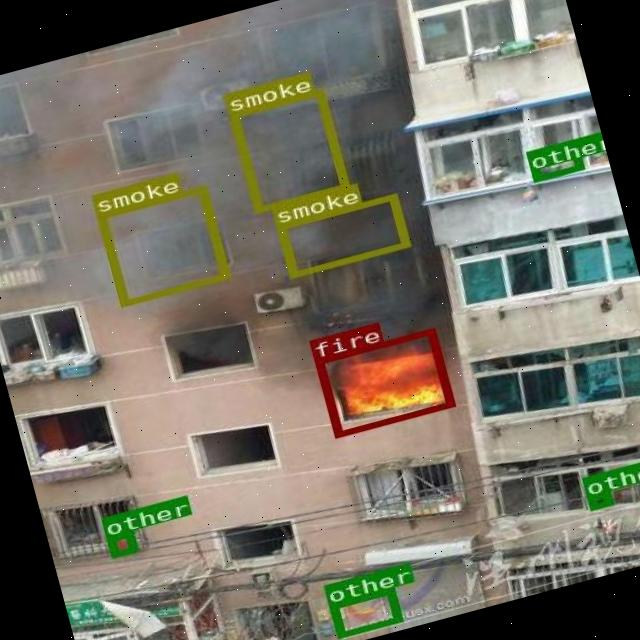fire: (313, 328, 453, 437)
smoke: (95, 184, 228, 306), (228, 89, 346, 212), (275, 194, 409, 278)
